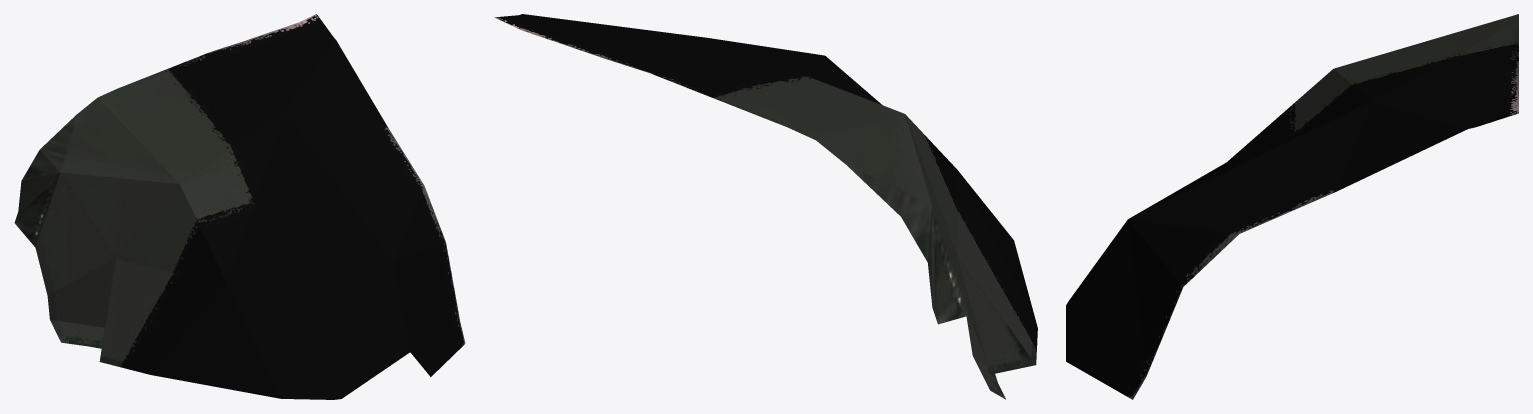
3 views of the same model, side by side, from view 1: azimuth 30°, elevation 25°; view 2: azimuth 150°, elevation 25°; view 3: azimuth 270°, elevation 25° (orthographic). The views are drawn at different scales.
Size of the model in its own units: 1.67 by 1.17 by 1.67.
Materials: 3 (3 with a texture image).
